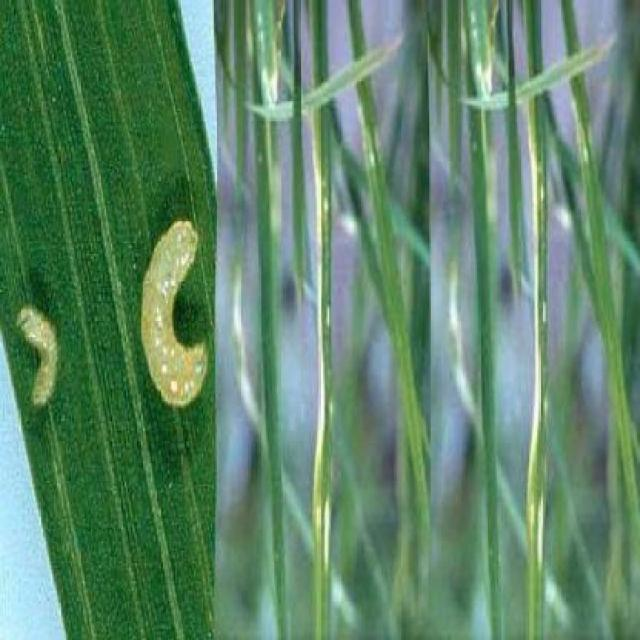whorl-maggot: (134, 212, 211, 420), (12, 291, 66, 417)
